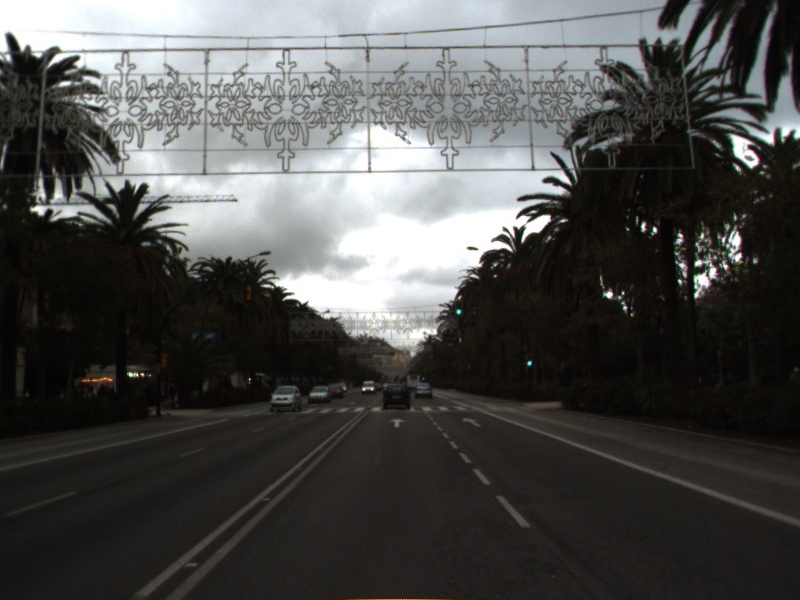STRAIGHT: (460, 415, 484, 429), (387, 416, 407, 429)
